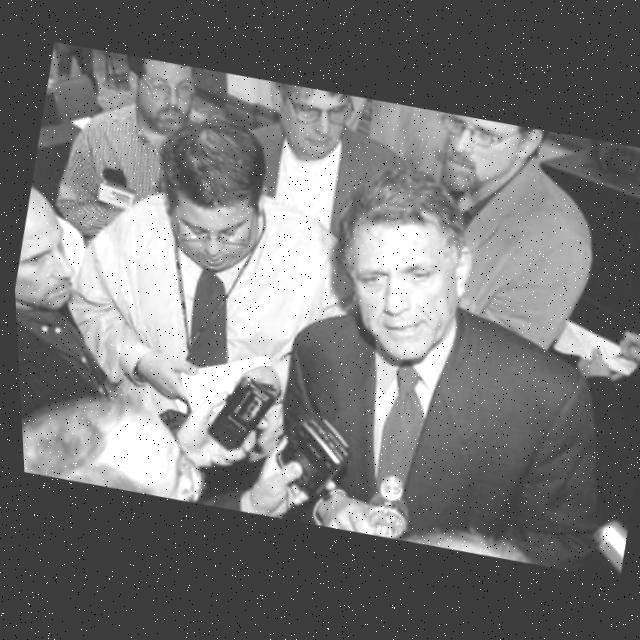face: (335, 201, 470, 378), (418, 111, 524, 215), (161, 176, 263, 280), (15, 198, 93, 313), (248, 78, 353, 152), (128, 58, 193, 137)
